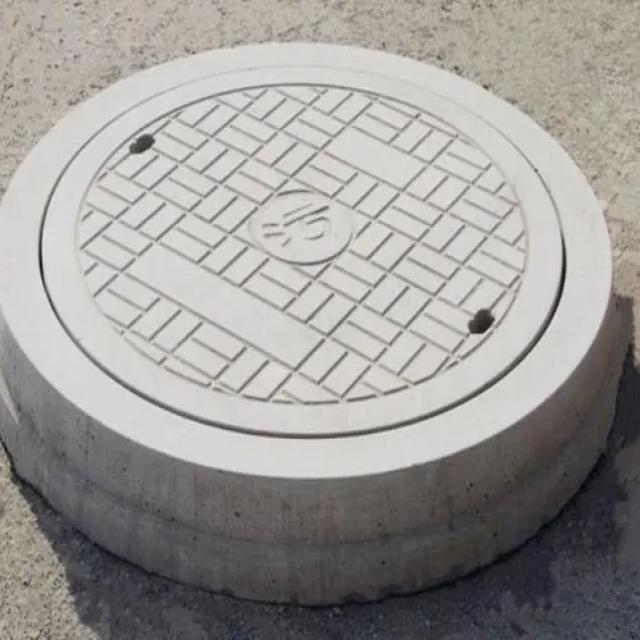manhole: (0, 44, 630, 603)
